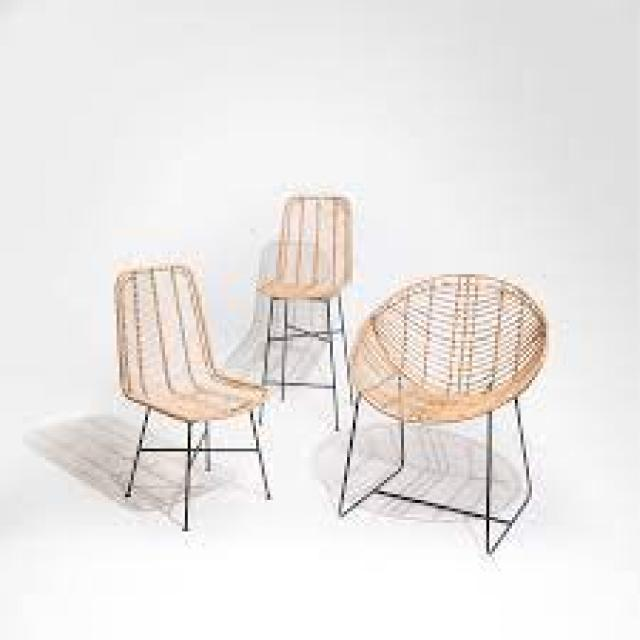chair: (334, 267, 553, 563), (107, 263, 273, 532), (249, 193, 363, 431)
